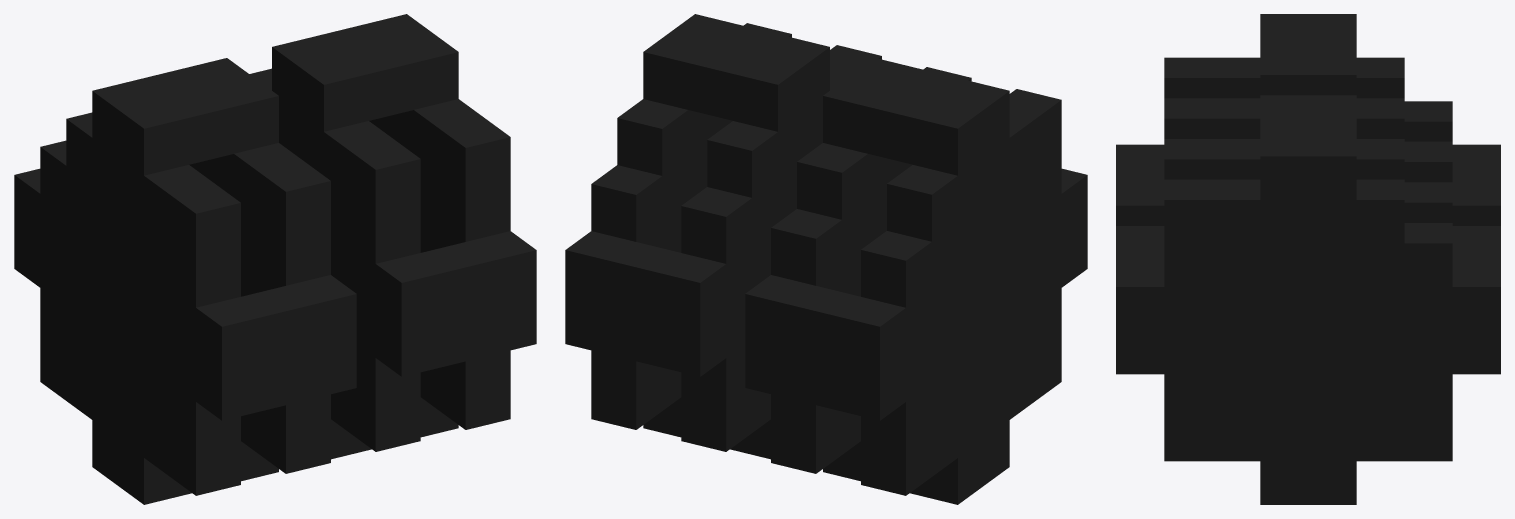
Rendered from barcofuegollan.obj.
3 renders of one model, left to right at view 1: azimuth 30°, elevation 25°; view 2: azimuth 150°, elevation 25°; view 3: azimuth 270°, elevation 25°, orthographic. The views are drawn at different scales.
Parts seen in each view (by area): view 1: barcofuegorued.001; view 2: barcofuegorued.001; view 3: barcofuegorued.001.
Boxes of the visible parts, x1,y1,x2,y2 form: barcofuegorued.001: [14, 14, 536, 504]; barcofuegorued.001: [565, 14, 1087, 504]; barcofuegorued.001: [1116, 14, 1500, 504].
Bounding box in the file's own units: 0.7 × 0.8 × 0.8.
